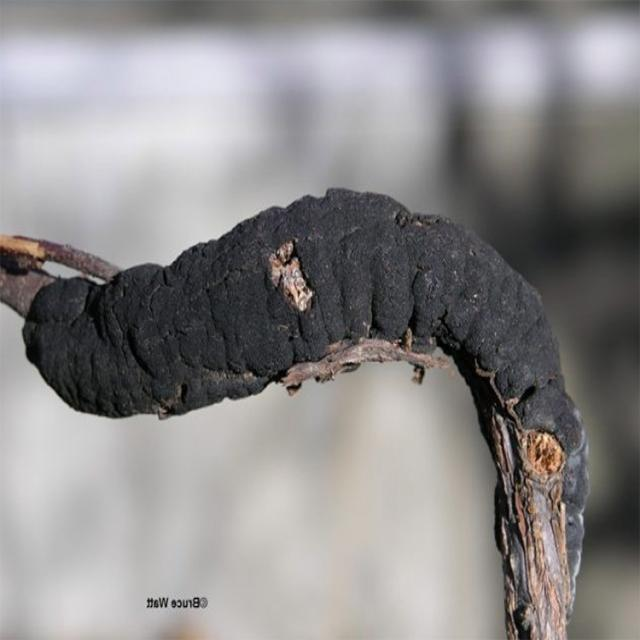Black_knot: (9, 185, 592, 637)
